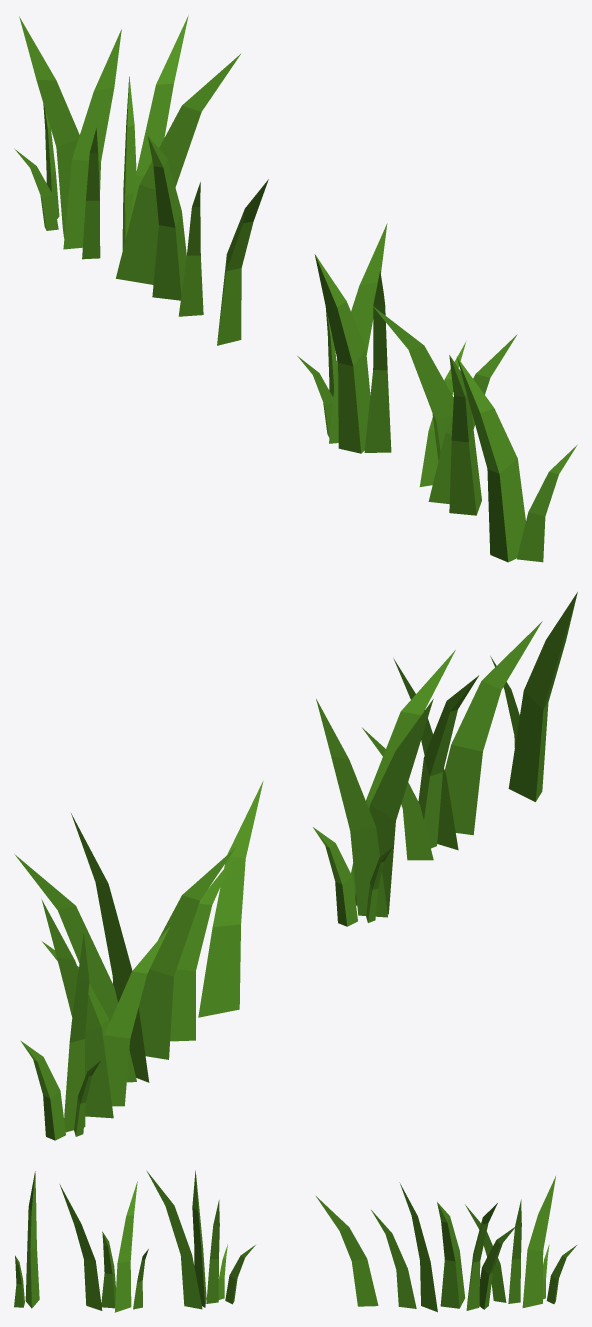
File: grass1.fbx
3 renders of one model, top to bottom at view 1: azimuth 30°, elevation 25°; view 2: azimuth 150°, elevation 25°; view 3: azimuth 270°, elevation 25°, orthographic. The views are drawn at different scales.
Parts seen in each view (by area): view 1: Circle.029, Circle.013, Circle.031, Circle.019, Circle.015, Circle.023, Circle.020, Circle.027, Circle.012, Circle.026, Circle.016, Circle.030 (+8 smaller); view 2: Circle.012, Circle.023, Circle.015, Circle.029, Circle.030, Circle.031, Circle.019, Circle.017, Circle.014, Circle.013, Circle.016, Circle.026 (+6 smaller); view 3: Circle.020, Circle.013, Circle.012, Circle.027, Circle.026, Circle.029, Circle.023, Circle.015, Circle.014, Circle.031, Circle.016, Circle.030 (+9 smaller).
Part boxes in pixels (bbox=[...]): Circle.029: bbox=[457, 357, 525, 562]; Circle.013: bbox=[116, 54, 240, 284]; Circle.031: bbox=[314, 254, 370, 453]; Circle.019: bbox=[63, 29, 121, 249]; Circle.015: bbox=[147, 136, 186, 300]; Circle.023: bbox=[449, 355, 481, 515]; Circle.020: bbox=[19, 16, 79, 237]; Circle.027: bbox=[364, 271, 391, 452]; Circle.012: bbox=[217, 179, 268, 345]; Circle.026: bbox=[372, 305, 453, 460]; Circle.016: bbox=[130, 15, 188, 221]; Circle.030: bbox=[329, 223, 387, 443]; Circle.012: bbox=[198, 781, 263, 1017]; Circle.023: bbox=[444, 621, 542, 835]; Circle.015: bbox=[138, 848, 235, 1059]; Circle.029: bbox=[508, 592, 577, 801]; Circle.030: bbox=[316, 699, 387, 917]; Circle.031: bbox=[355, 699, 433, 914]; Circle.019: bbox=[41, 899, 113, 1118]; Circle.017: bbox=[103, 926, 169, 1106]; Circle.014: bbox=[170, 857, 233, 1041]; Circle.013: bbox=[71, 813, 149, 1082]; Circle.016: bbox=[14, 854, 136, 1082]; Circle.026: bbox=[418, 675, 478, 848]; Circle.020: bbox=[522, 1176, 555, 1307]; Circle.013: bbox=[437, 1202, 465, 1308]; Circle.012: bbox=[316, 1196, 378, 1306]; Circle.027: bbox=[146, 1170, 202, 1309]; Circle.026: bbox=[114, 1181, 137, 1312]; Circle.029: bbox=[25, 1171, 39, 1308]; Circle.023: bbox=[59, 1184, 102, 1310]; Circle.015: bbox=[399, 1182, 437, 1312]; Circle.014: bbox=[371, 1210, 416, 1308]; Circle.031: bbox=[192, 1170, 206, 1307]; Circle.016: bbox=[466, 1203, 497, 1310]; Circle.030: bbox=[206, 1200, 219, 1303].
Bounding box in the file's own units: 39.3 × 59.33 × 241.
